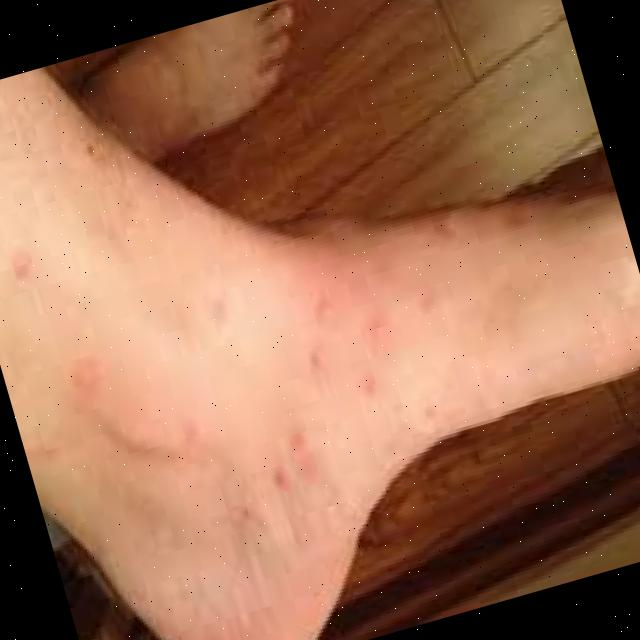kan emici bocekler: (61, 351, 125, 414), (1, 231, 47, 294), (309, 290, 359, 344), (262, 451, 309, 501), (350, 364, 390, 406), (286, 425, 321, 470), (307, 344, 334, 382)
